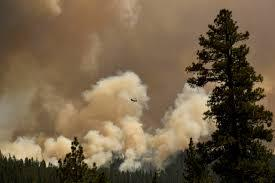smoke: (20, 81, 208, 152)
